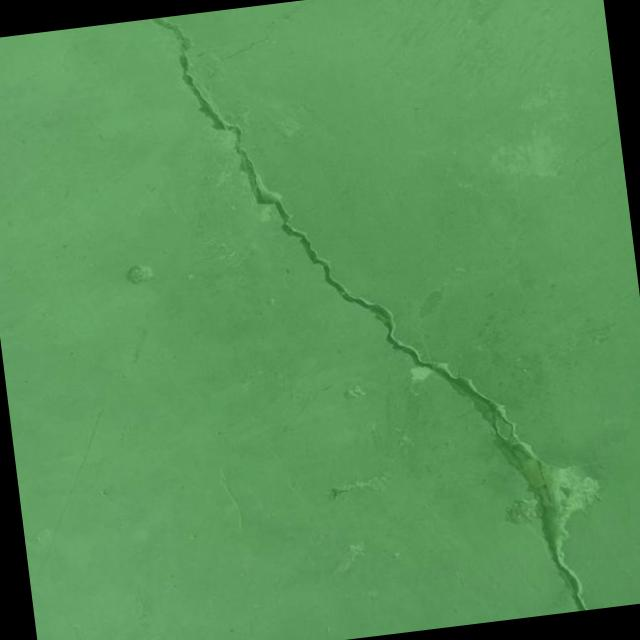crack: (150, 0, 587, 640), (209, 0, 325, 63), (450, 560, 488, 603), (506, 600, 524, 620)
